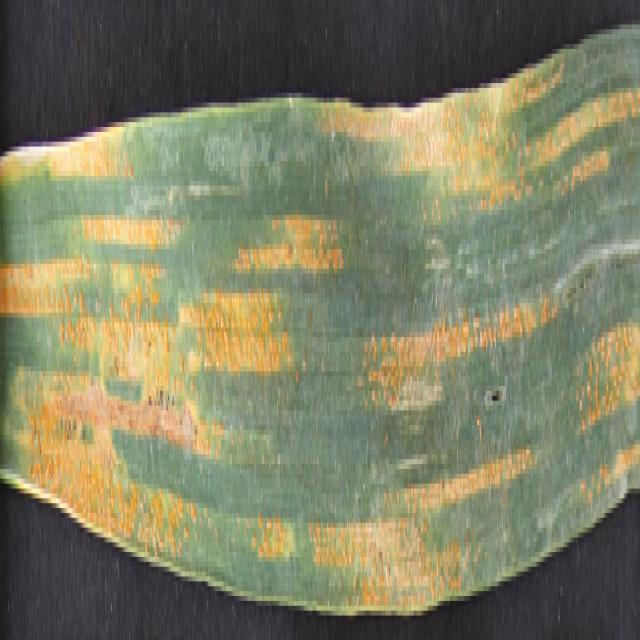leaf rust: (1, 68, 638, 611)
